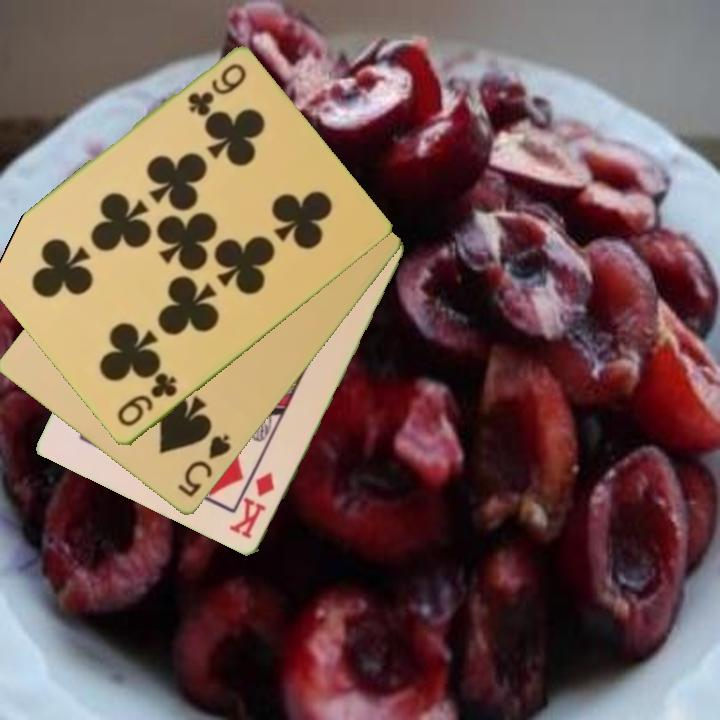5s: (174, 431, 234, 501)
9c: (113, 370, 180, 431), (183, 60, 250, 119)
Kd: (228, 468, 278, 542)
